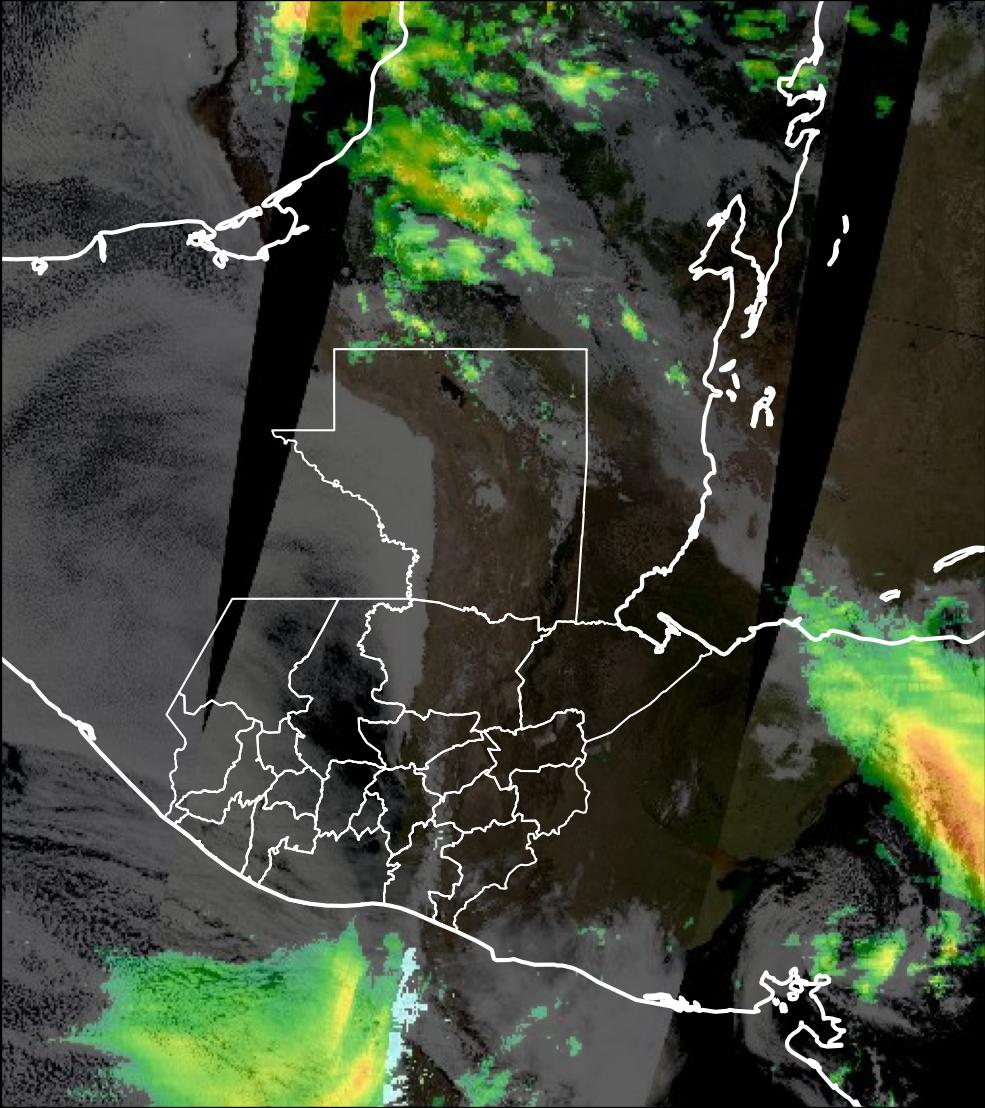precipitacion: (887, 700, 985, 902)
